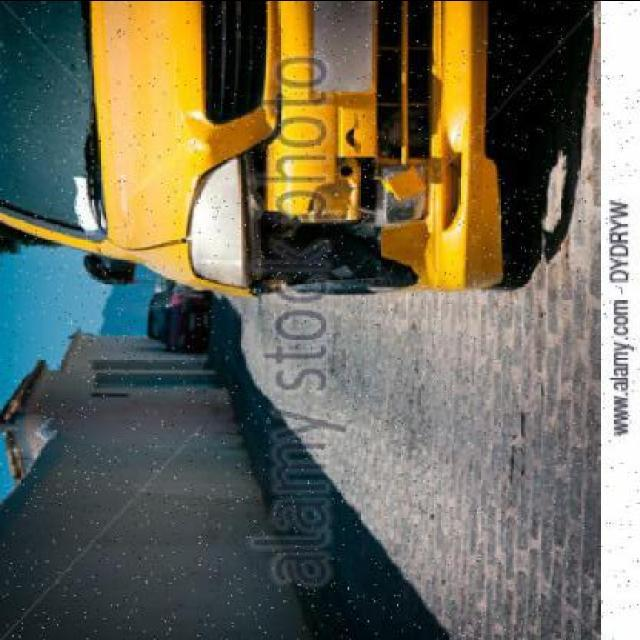front-bumper-dent: (233, 2, 493, 328)
